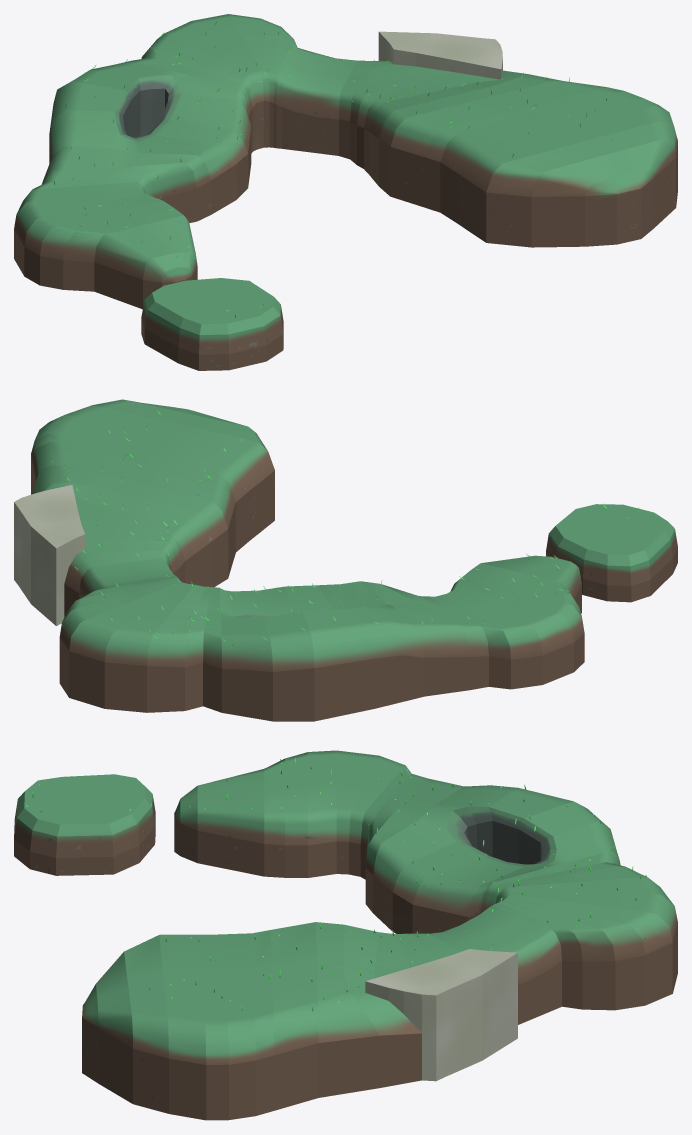
File: Path03 with grass.fbx
3 renders of one model, top to bottom at view 1: azimuth 30°, elevation 25°; view 2: azimuth 150°, elevation 25°; view 3: azimuth 270°, elevation 25°, orthographic. The views are drawn at different scales.
Parts seen in each view (by area): view 1: pPlane3; view 2: pPlane3; view 3: pPlane3.
Part boxes in pixels (box(x1,y1,x2,y2)): pPlane3: box(14, 14, 677, 370); pPlane3: box(14, 399, 677, 721); pPlane3: box(14, 750, 677, 1120).
Size of the model in its own units: 1123 by 152 by 996.
